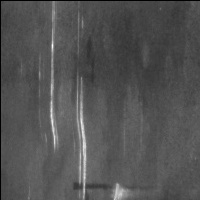scratches: (46, 2, 64, 151), (72, 70, 92, 198)
